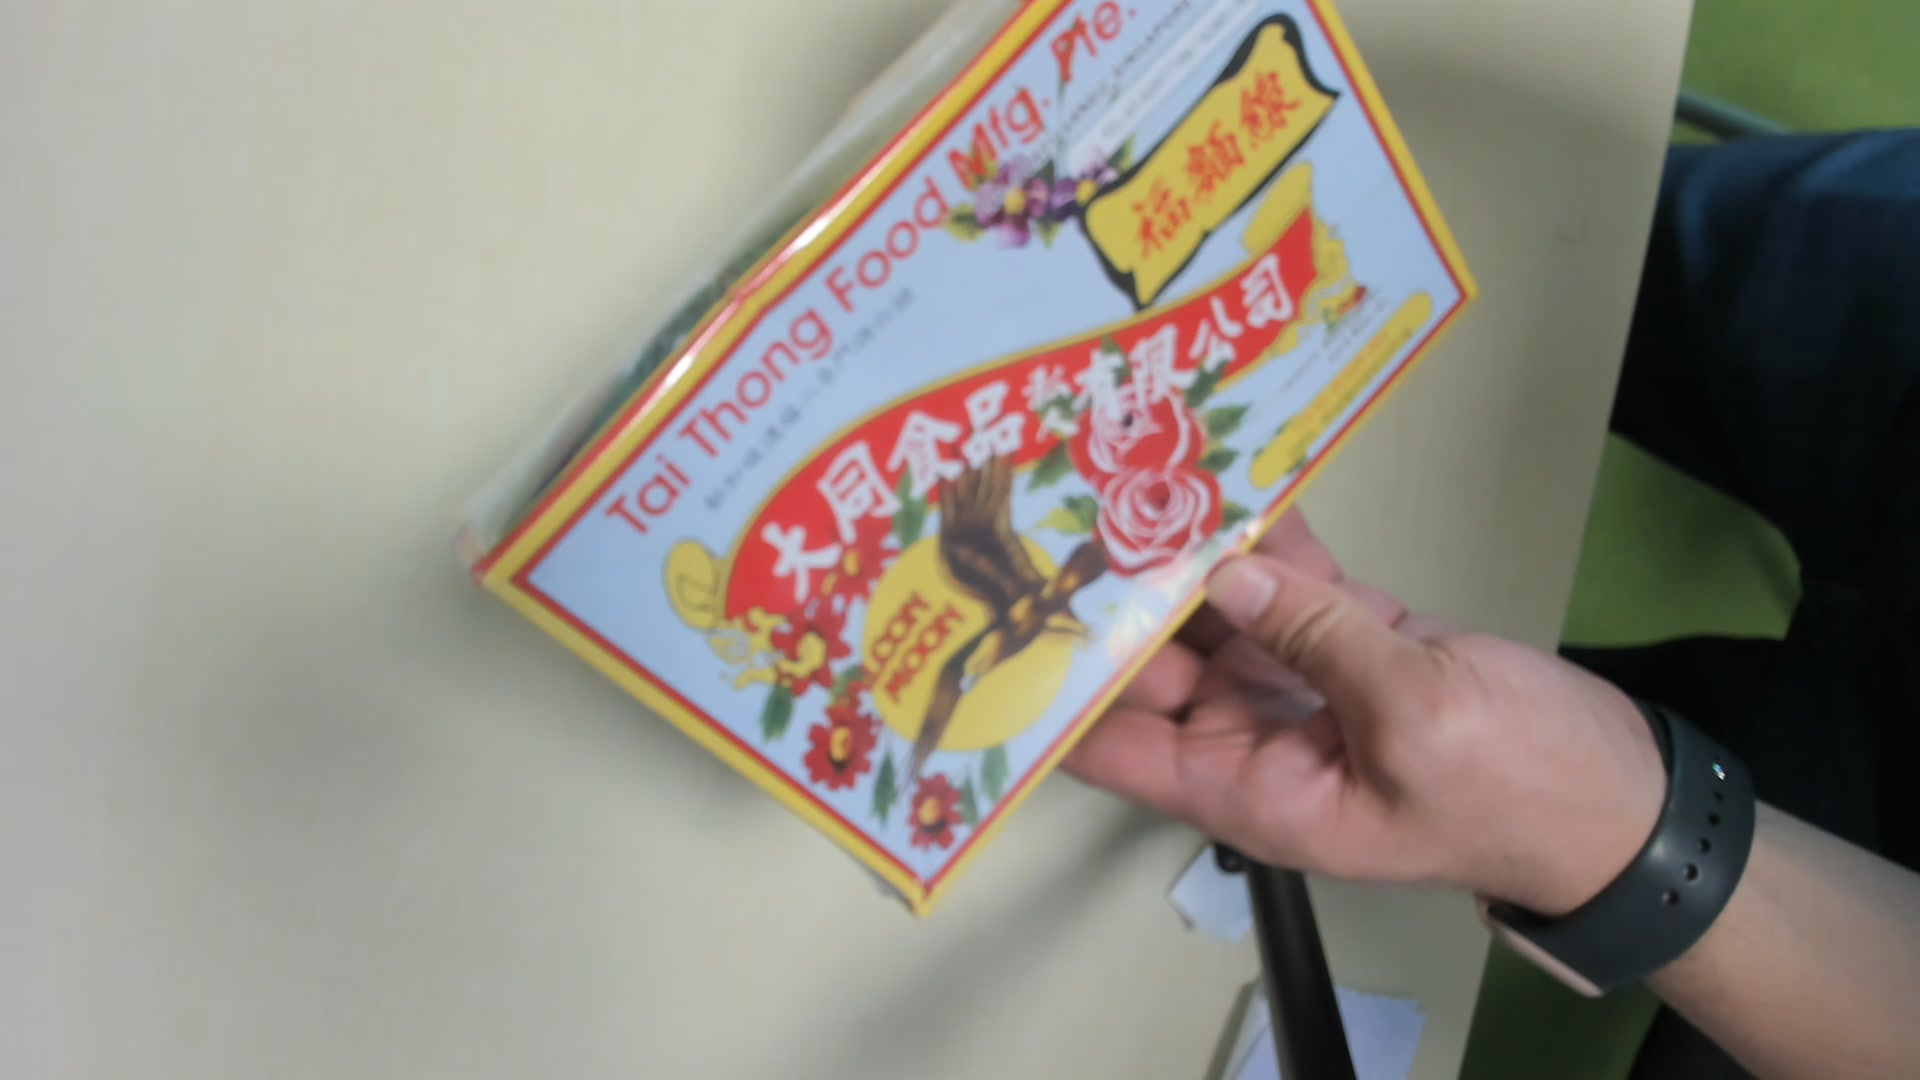BeeHoonVermicelli_0-99g_NonHalal_NonHealthy: (462, 5, 1476, 907)
